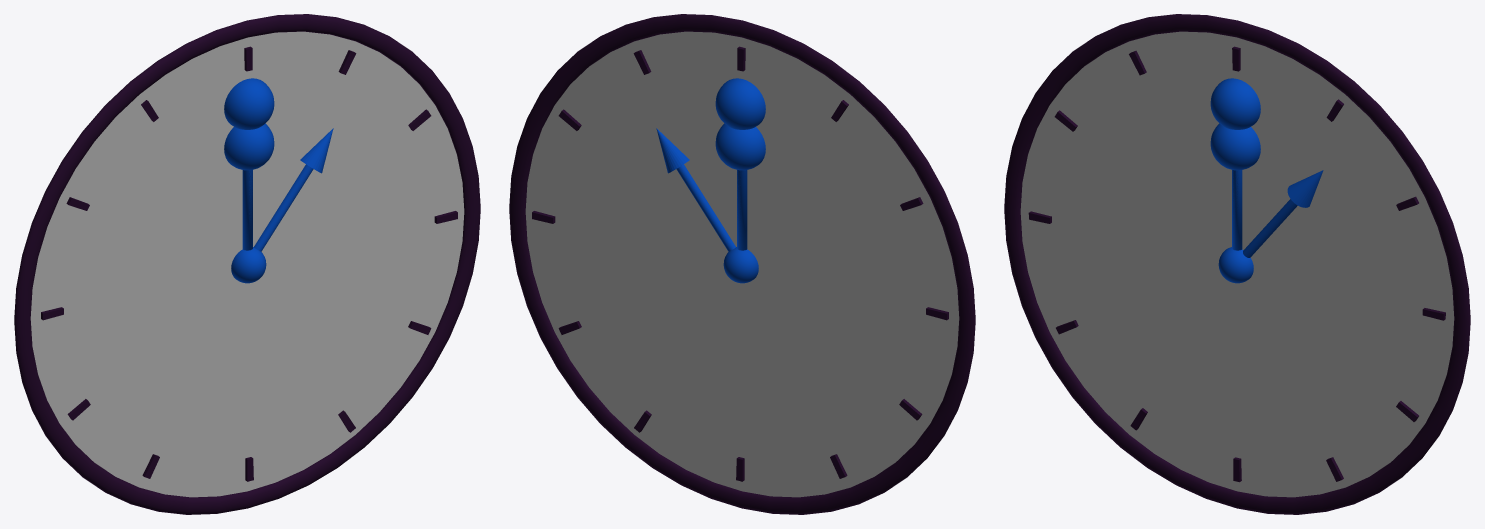
Rendered from clock3.fbx.
3 renders of one model, left to right at view 1: azimuth 30°, elevation 25°; view 2: azimuth 150°, elevation 25°; view 3: azimuth 330°, elevation 25°, orthographic.
Visible parts, largest first — view 1: Face, Frame, HandLarge, Cube, HandLarge.001, HandSmall, Sphere; view 2: Face, Frame, HandLarge, Cube, HandLarge.001, HandSmall, Sphere; view 3: Face, Frame, HandLarge.001, Cube, HandLarge, HandSmall, Sphere.
Boxes of the visible parts, left/top/right/bottom form: Face: left=30, top=31, right=464, bottom=497; Frame: left=14, top=14, right=480, bottom=514; HandLarge: left=224, top=78, right=274, bottom=250; Cube: left=41, top=46, right=457, bottom=481; HandLarge.001: left=224, top=123, right=274, bottom=250; HandSmall: left=254, top=128, right=333, bottom=251; Sphere: left=231, top=247, right=266, bottom=283; Face: left=525, top=31, right=959, bottom=497; Frame: left=509, top=14, right=975, bottom=514; HandLarge: left=715, top=78, right=765, bottom=250; Cube: left=532, top=46, right=948, bottom=481; HandLarge.001: left=715, top=123, right=765, bottom=250; HandSmall: left=656, top=128, right=735, bottom=251; Sphere: left=723, top=247, right=758, bottom=283; Face: left=1020, top=31, right=1454, bottom=497; Frame: left=1004, top=14, right=1470, bottom=514; HandLarge.001: left=1210, top=123, right=1260, bottom=250; Cube: left=1028, top=46, right=1445, bottom=482; HandLarge: left=1210, top=78, right=1260, bottom=250; HandSmall: left=1243, top=170, right=1323, bottom=257; Sphere: left=1218, top=247, right=1253, bottom=283.
Bounding box in the file's own units: 4.59 × 4.59 × 0.46.
